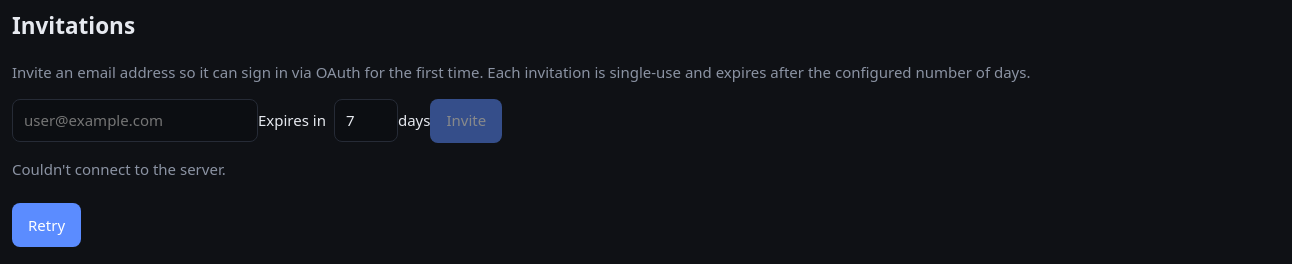
Test case: AdminInvitations › renders an error message with a working Retry button
Check: the text "Couldn't connect to the server." is shown, box 12,158 -> 226,180
Click the button "Retry".
click(47, 225)  # box 12,203 -> 81,247
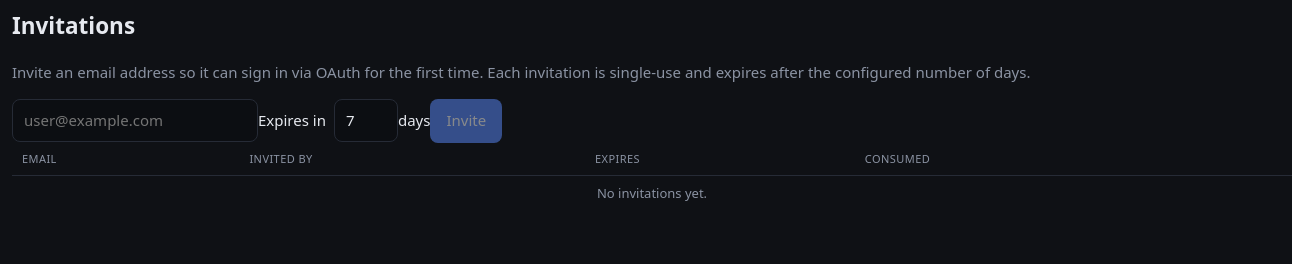
Check: the text "No invitations yet." is shown, box 12,176 -> 1291,212
